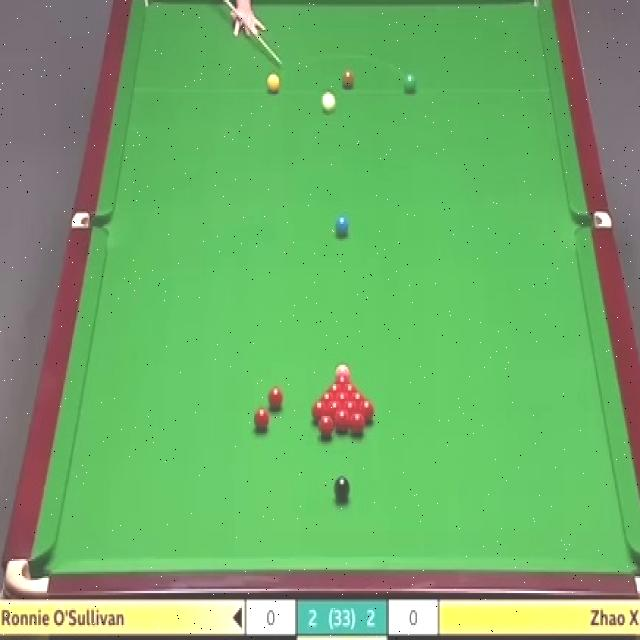black-ball: (332, 474, 349, 501)
blue-ball: (334, 217, 350, 234)
brown-ball: (342, 71, 354, 90)
green-ball: (402, 71, 418, 94)
pink-ball: (335, 364, 351, 380)
red-ball: (315, 414, 335, 438), (334, 408, 350, 432), (267, 386, 284, 408), (254, 407, 269, 431), (311, 400, 326, 423), (357, 399, 372, 422), (350, 413, 365, 436), (343, 401, 358, 423), (321, 391, 333, 405), (337, 392, 348, 406), (336, 377, 347, 389)
white-ball: (323, 91, 336, 116)
yellow-ball: (267, 73, 280, 94)
